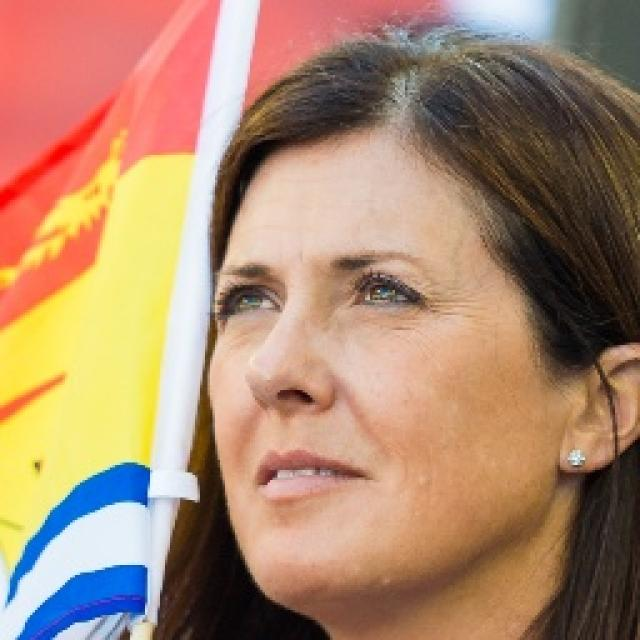earlobe: (556, 343, 640, 475)
